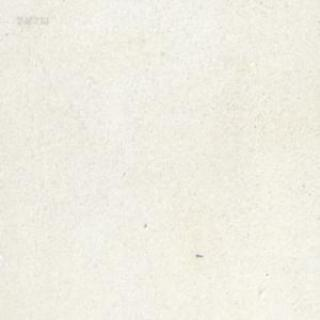Nailtrack_idkeyframe: (195, 251, 202, 257)
